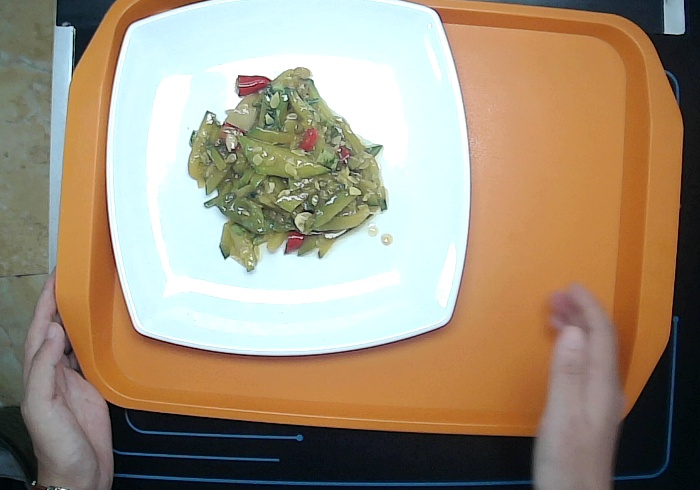ZNLD-Bai_Fang_Pan: (88, 1, 493, 370)
